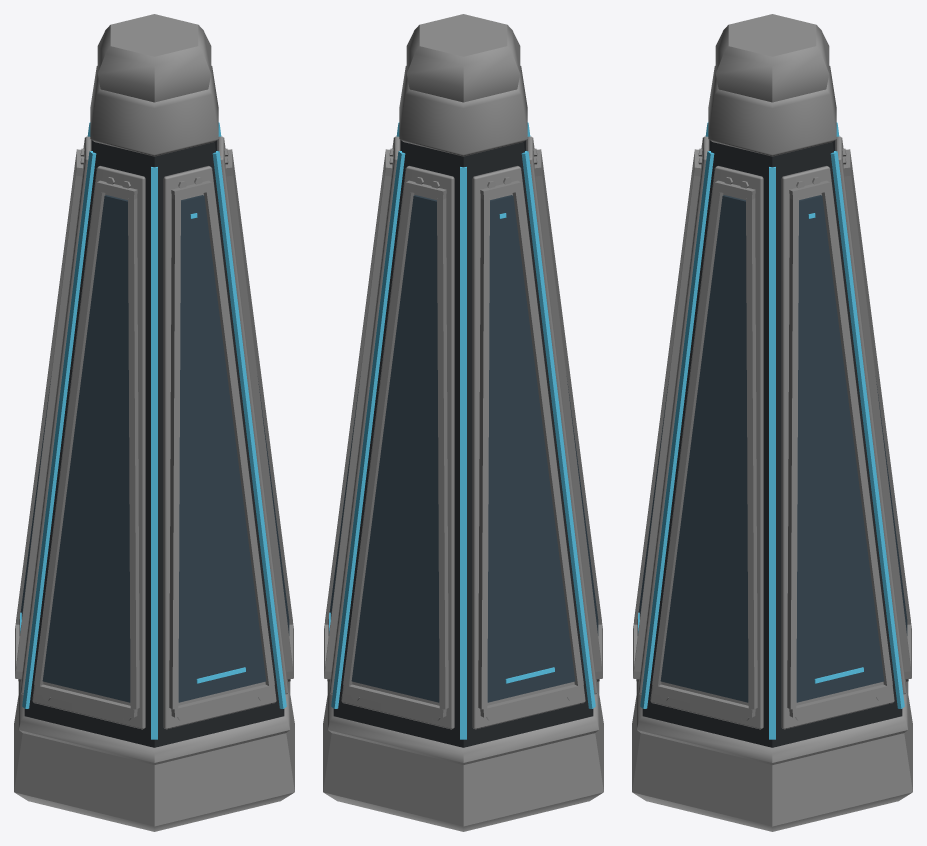
File: Monument_UpperShard.fbx
3 views of the same model, side by side, from view 1: azimuth 30°, elevation 25°; view 2: azimuth 150°, elevation 25°; view 3: azimuth 270°, elevation 25° (orthographic).
Parts seen in each view (by area): view 1: Monument_UpperShard_LOD0; view 2: Monument_UpperShard_LOD0; view 3: Monument_UpperShard_LOD0.
Part boxes in pixels (bbox=[...]): Monument_UpperShard_LOD0: bbox=[14, 14, 294, 831]; Monument_UpperShard_LOD0: bbox=[323, 14, 603, 831]; Monument_UpperShard_LOD0: bbox=[632, 14, 912, 831].
Size of what is drawn, in the model's own units: 1.44 by 3.6 by 1.25.
